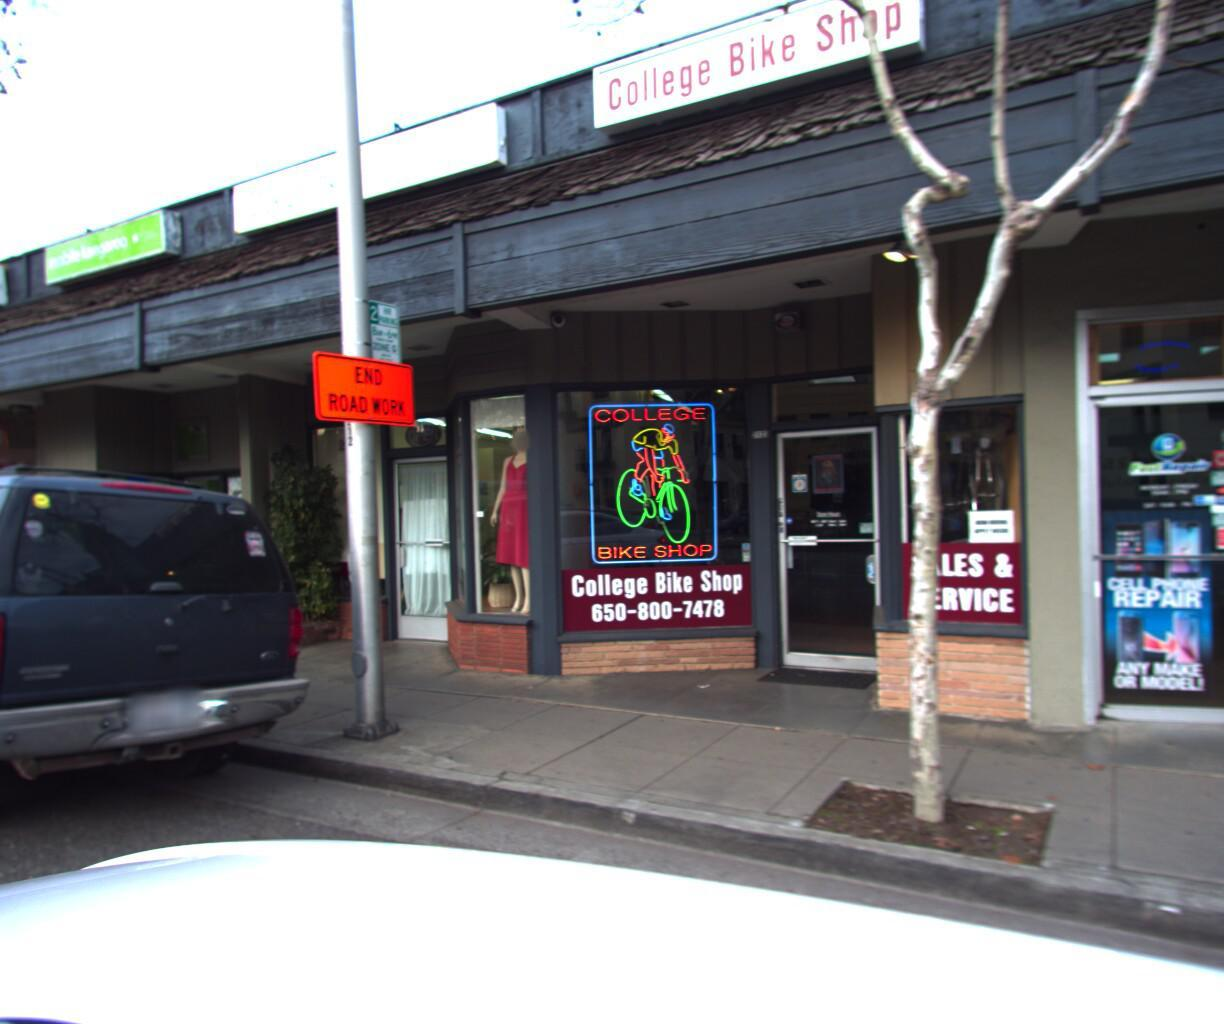car: (0, 451, 325, 907)
